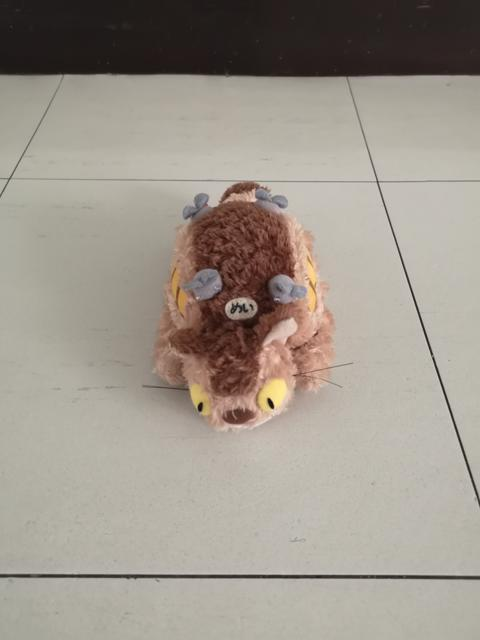nekobus: (139, 182, 365, 437)
